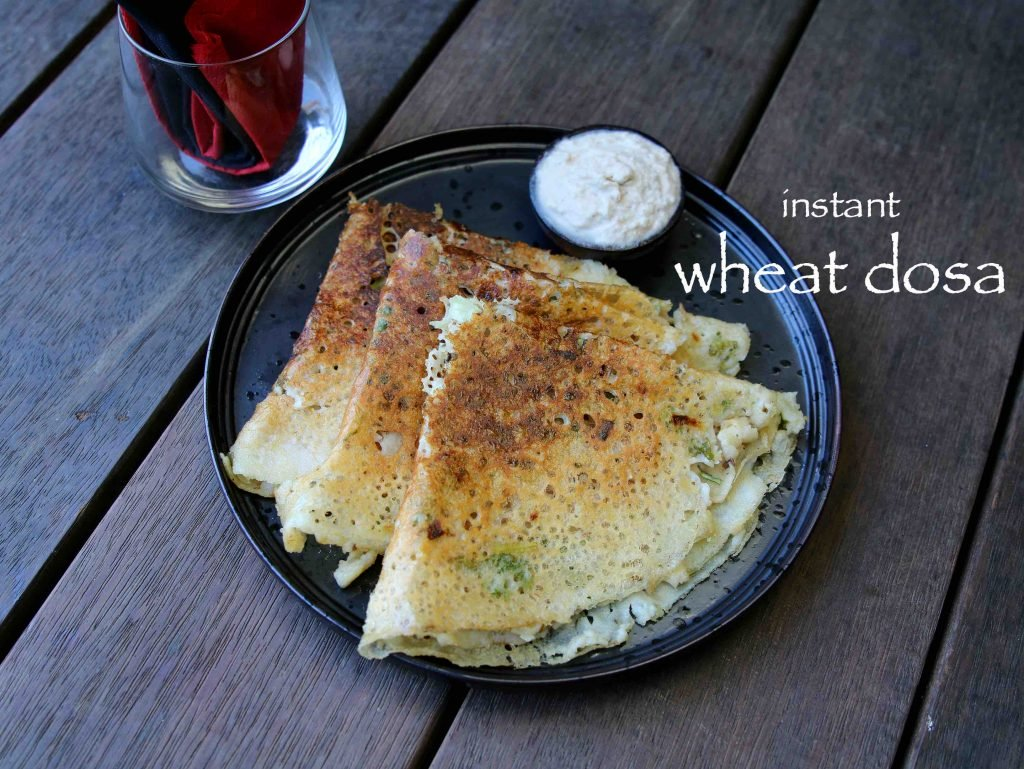dosa: (222, 194, 811, 678)
